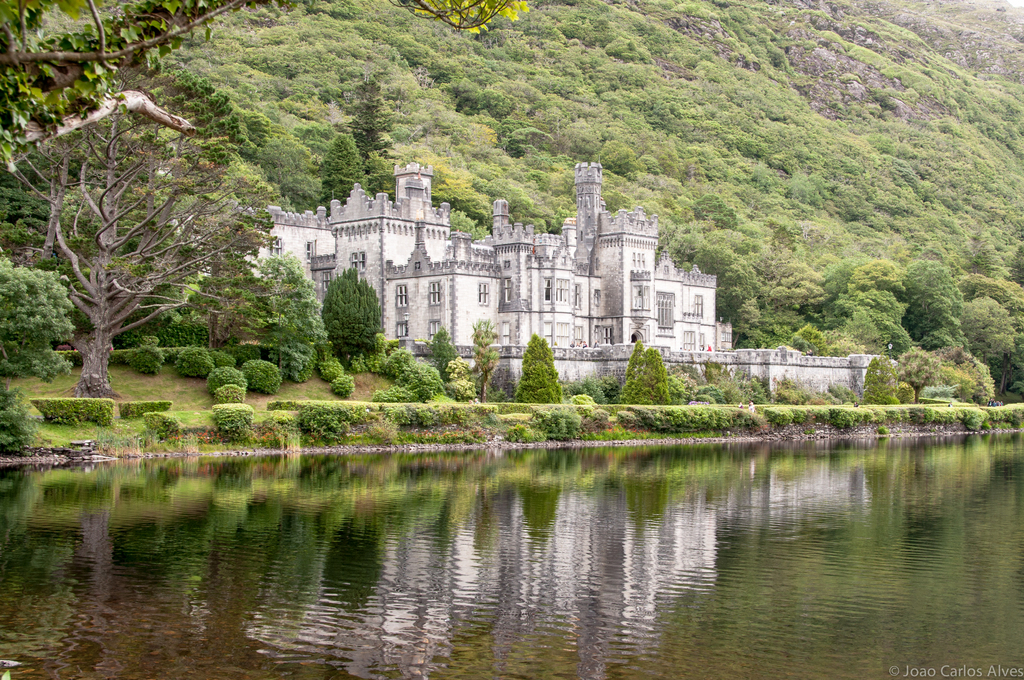Tree: (0, 0, 525, 174), (26, 101, 279, 406), (704, 197, 1022, 401), (0, 245, 71, 373), (318, 264, 382, 354), (613, 336, 674, 405), (311, 128, 366, 204), (517, 335, 558, 399), (471, 315, 500, 401), (866, 352, 908, 402), (428, 327, 451, 384)
